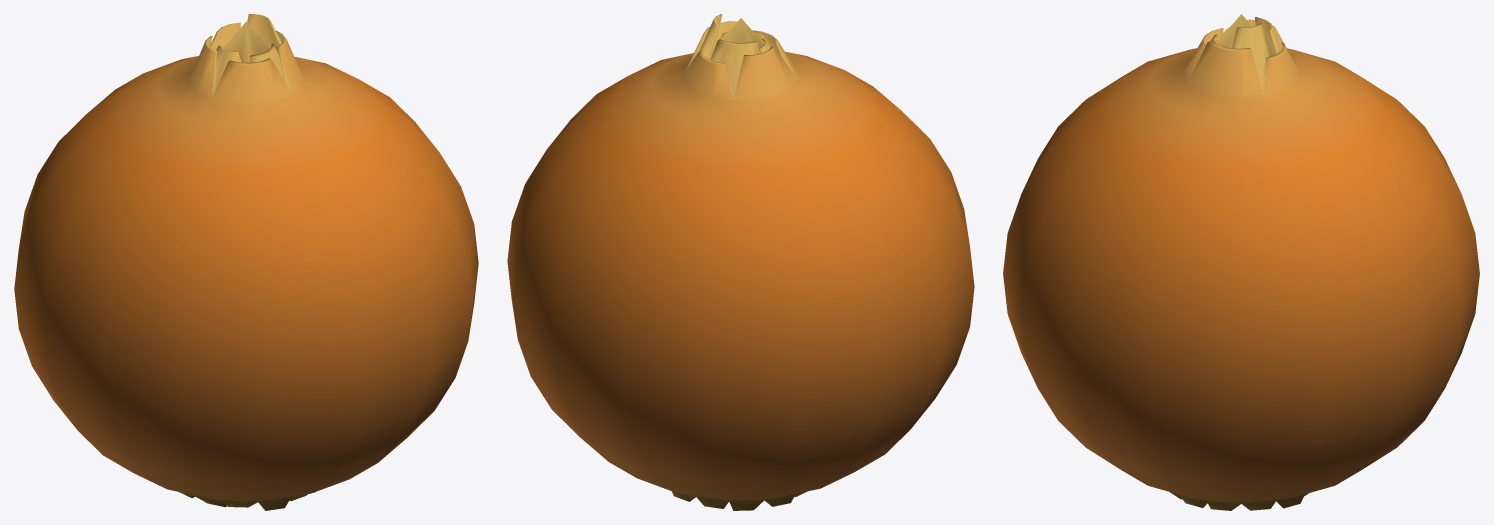
The model's file is Onion.glb.
3 views of the same model, side by side, from view 1: azimuth 30°, elevation 25°; view 2: azimuth 150°, elevation 25°; view 3: azimuth 270°, elevation 25° (orthographic).
Parts seen in each view (by area): view 1: Sphere; view 2: Sphere; view 3: Sphere.
Part boxes in pixels (x1,y1,x2,y2): Sphere: (14,14,478,510); Sphere: (507,14,974,510); Sphere: (1003,14,1479,510).
Size of the model in its own units: 4.03 by 4.32 by 4.03.
Materials: 1 (1 with a texture image).
